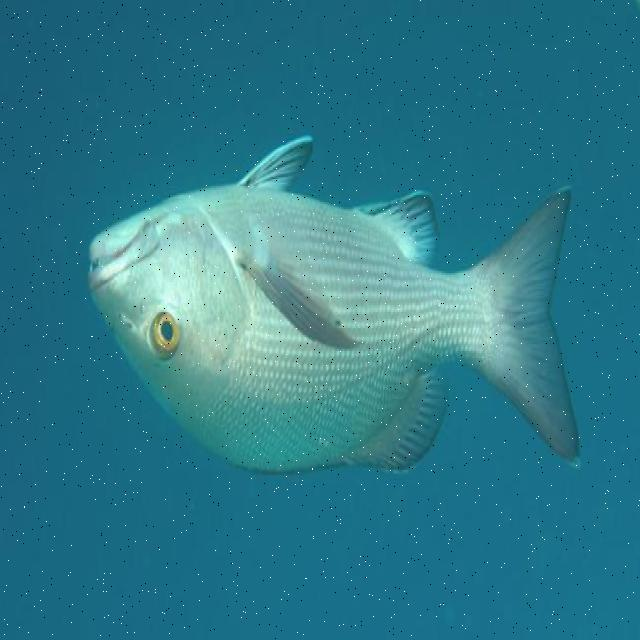ikan: (87, 134, 581, 480)
